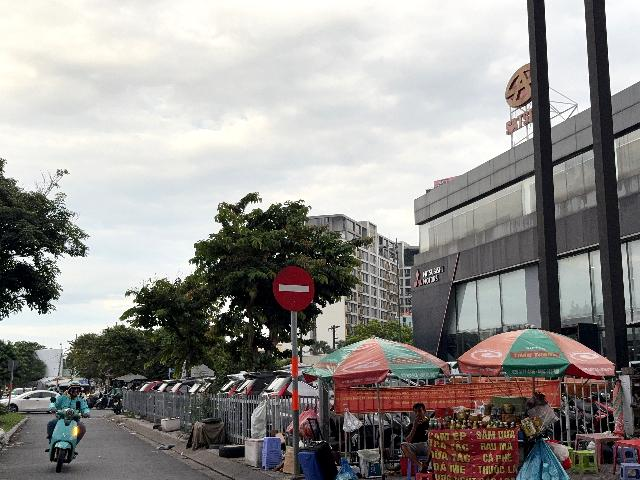cam-di-nguoc-chieu: (273, 265, 315, 312)
